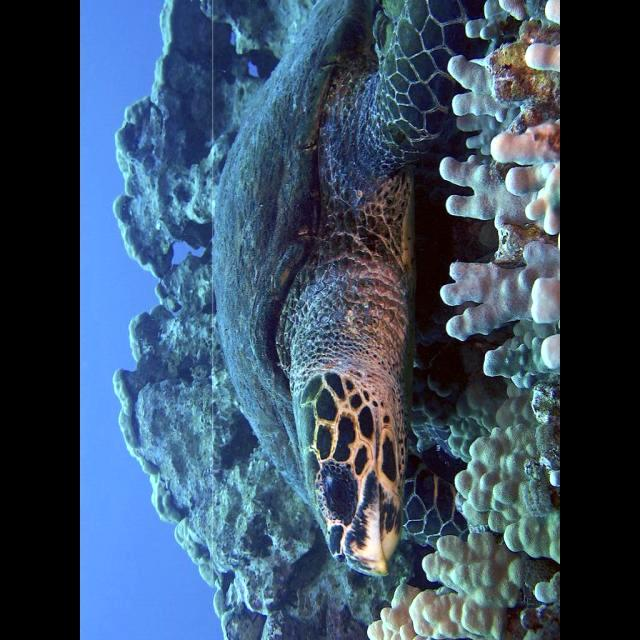Sea turtle: (212, 0, 485, 578)
